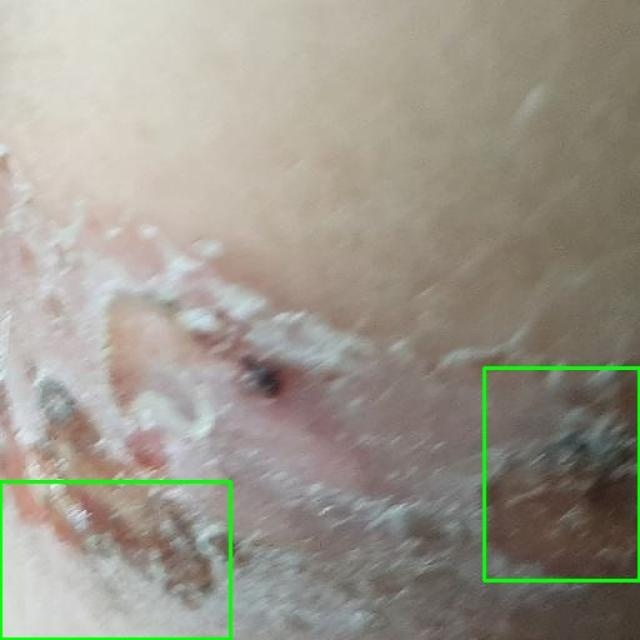Contact Dermatitis: (0, 481, 230, 639), (484, 368, 639, 580)
